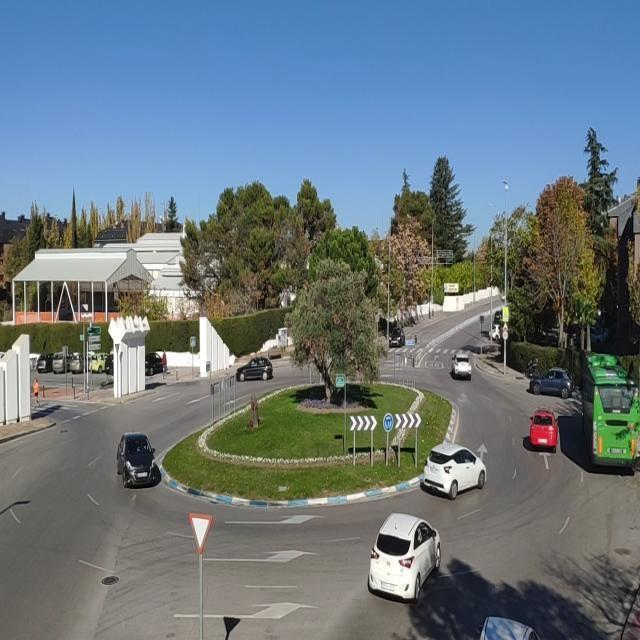Bus: (580, 350, 640, 469)
Car: (367, 511, 442, 602), (422, 442, 486, 501), (116, 432, 160, 489), (477, 616, 544, 640), (528, 366, 576, 399), (529, 408, 560, 450), (235, 356, 273, 382), (69, 351, 96, 374), (451, 352, 472, 380), (144, 353, 166, 376), (88, 352, 110, 374), (52, 350, 73, 373), (388, 326, 405, 348), (37, 351, 54, 372), (590, 326, 609, 344), (489, 323, 503, 343), (104, 354, 114, 376), (494, 309, 504, 325)
